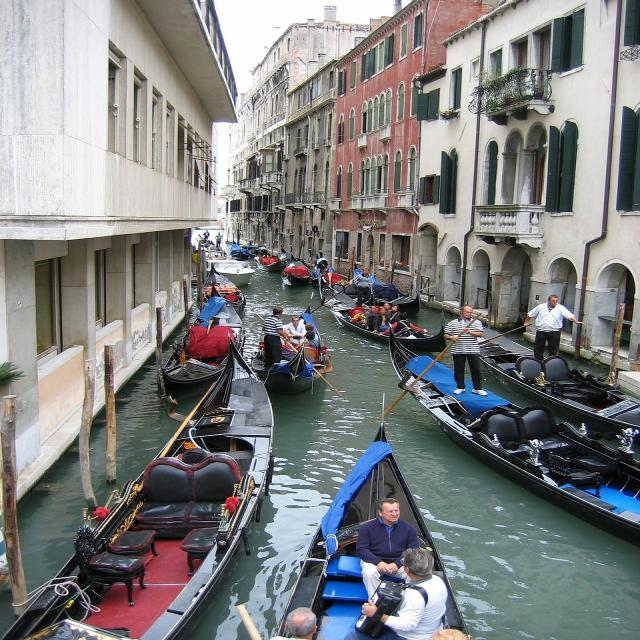boat: (0, 331, 287, 640), (370, 314, 640, 543), (277, 413, 481, 640), (250, 290, 345, 409)
